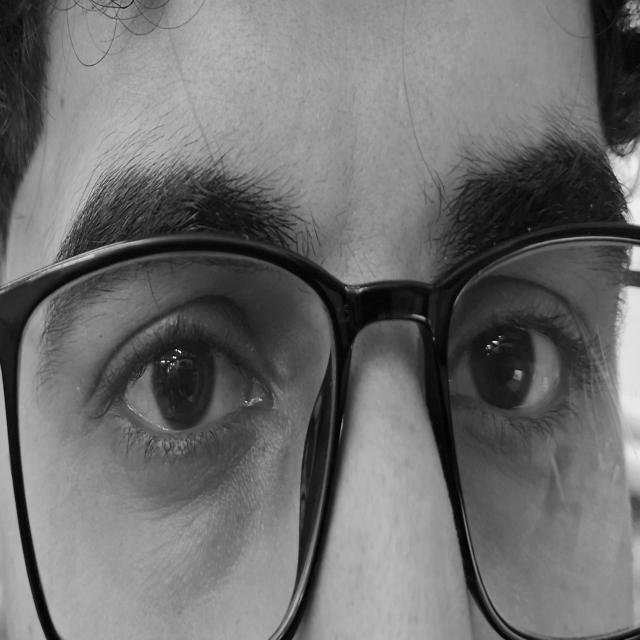real: (54, 168, 622, 567)
